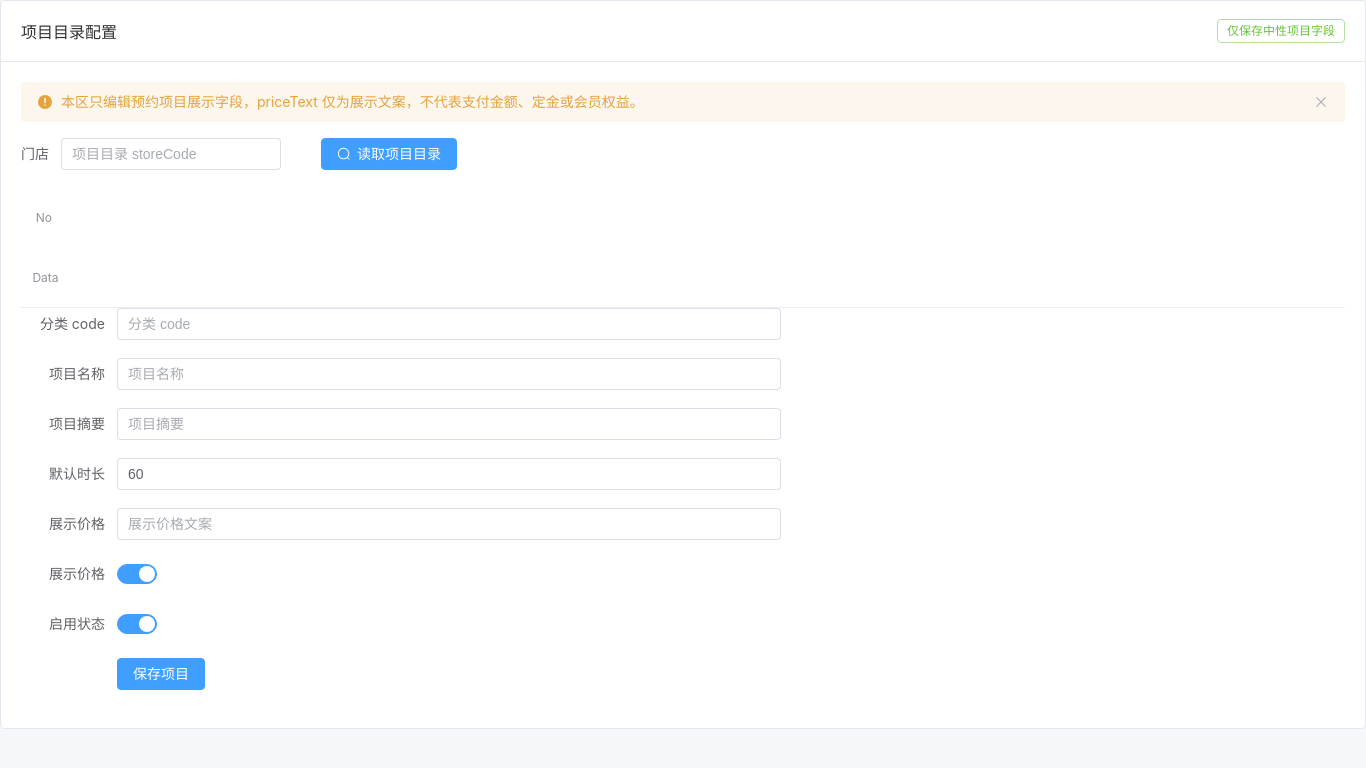
it: StoreAppointmentServiceCatalogPanel › saves selected project draft with store scope and request id
In the field with placeholder "项目目录 storeCode": (171, 154) [72,139,270,169], type "store-config-001"
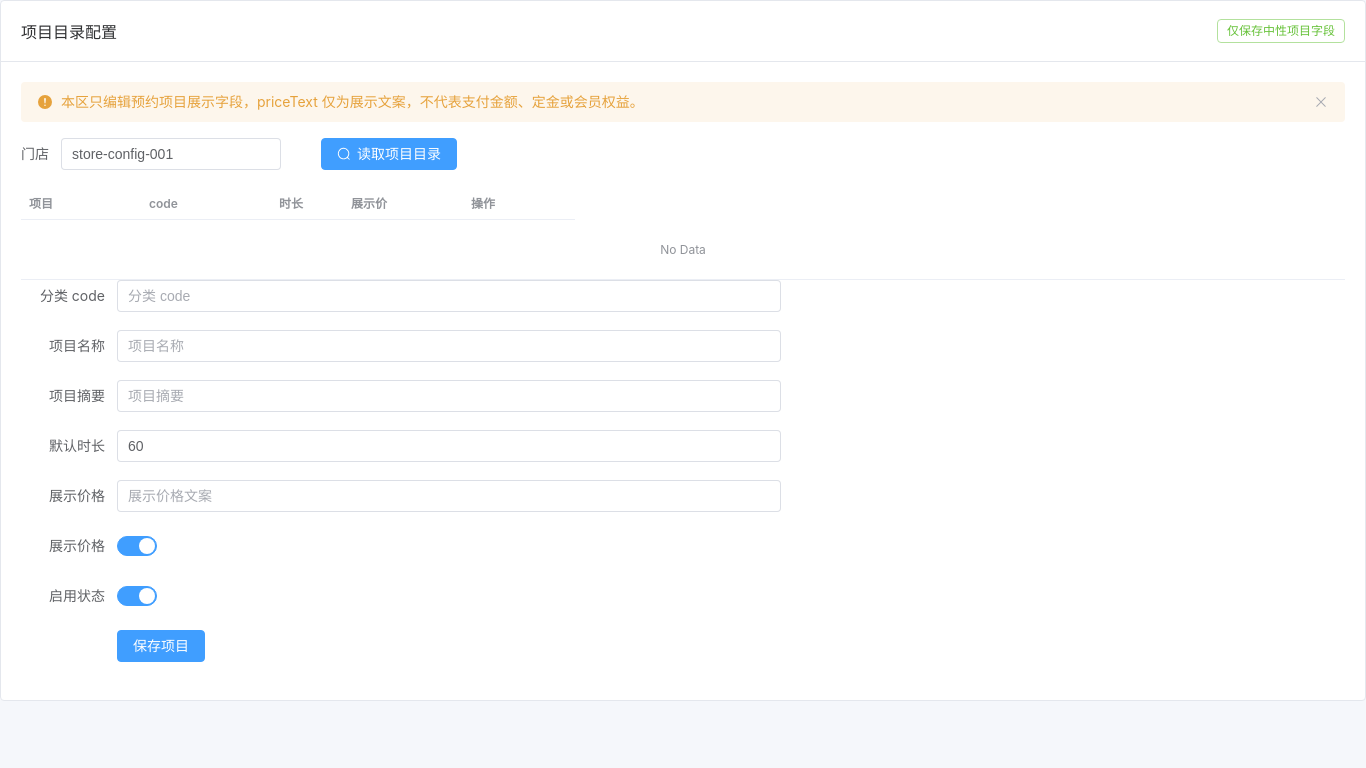
Click the button "读取项目目录": (389, 154) [321,138,457,170]
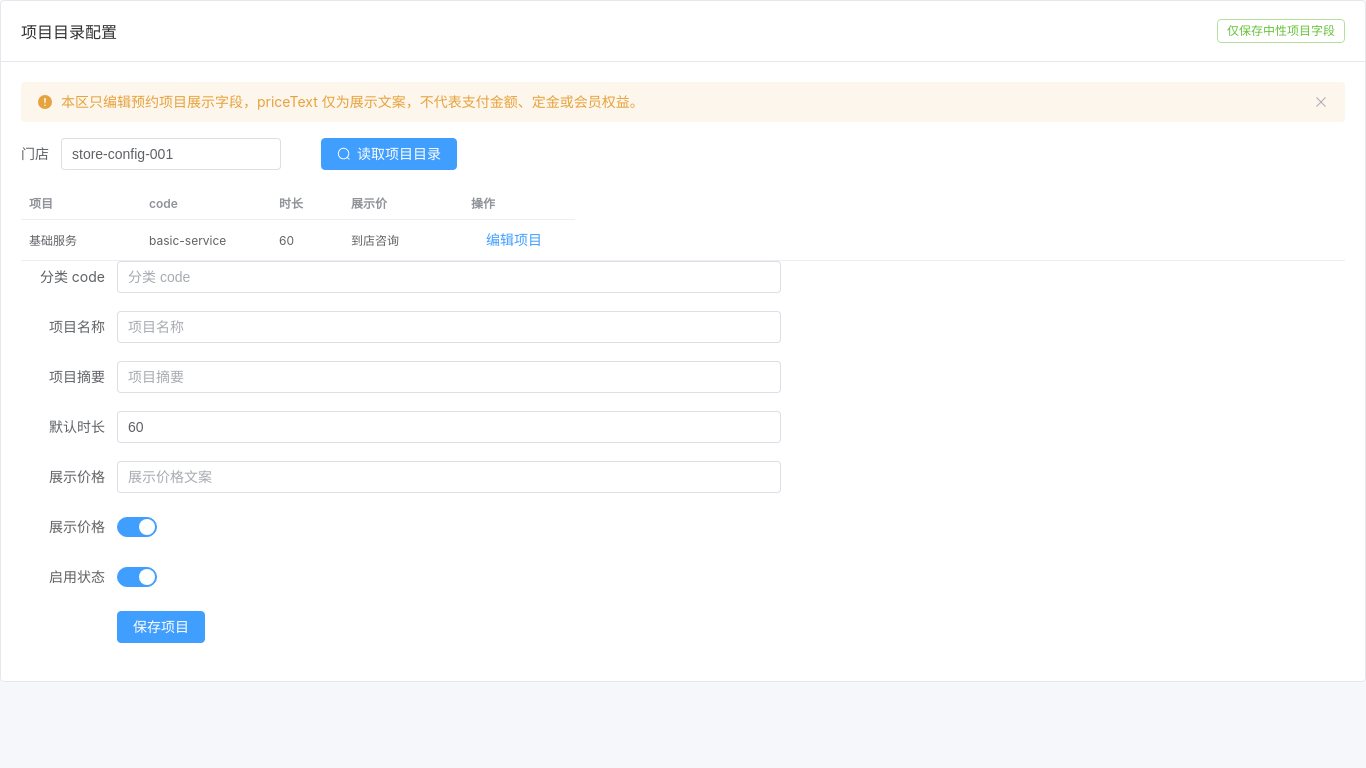
Click the button "编辑项目": (514, 240) [471,224,557,256]
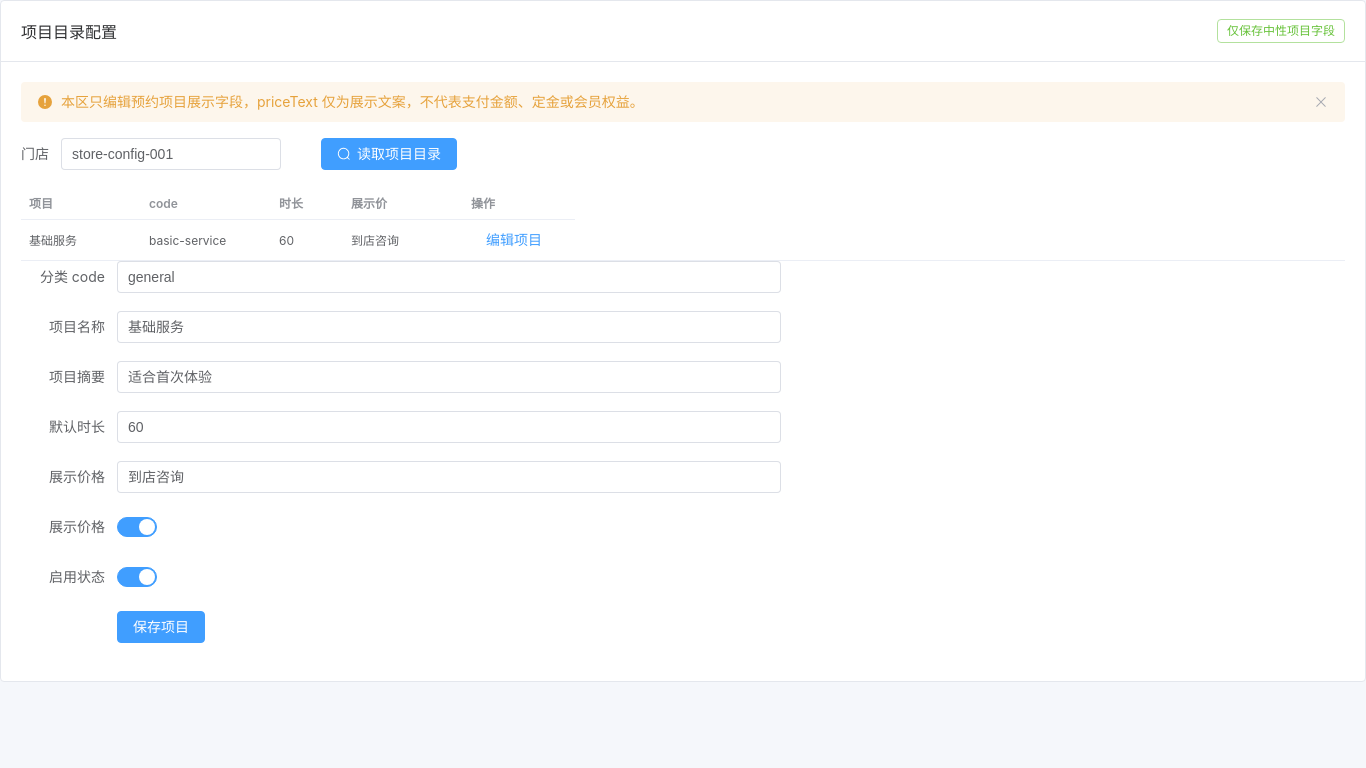
Replace the text in the field with placeholder "项目名称" with "基础护理": (449, 327) [128,312,770,342]
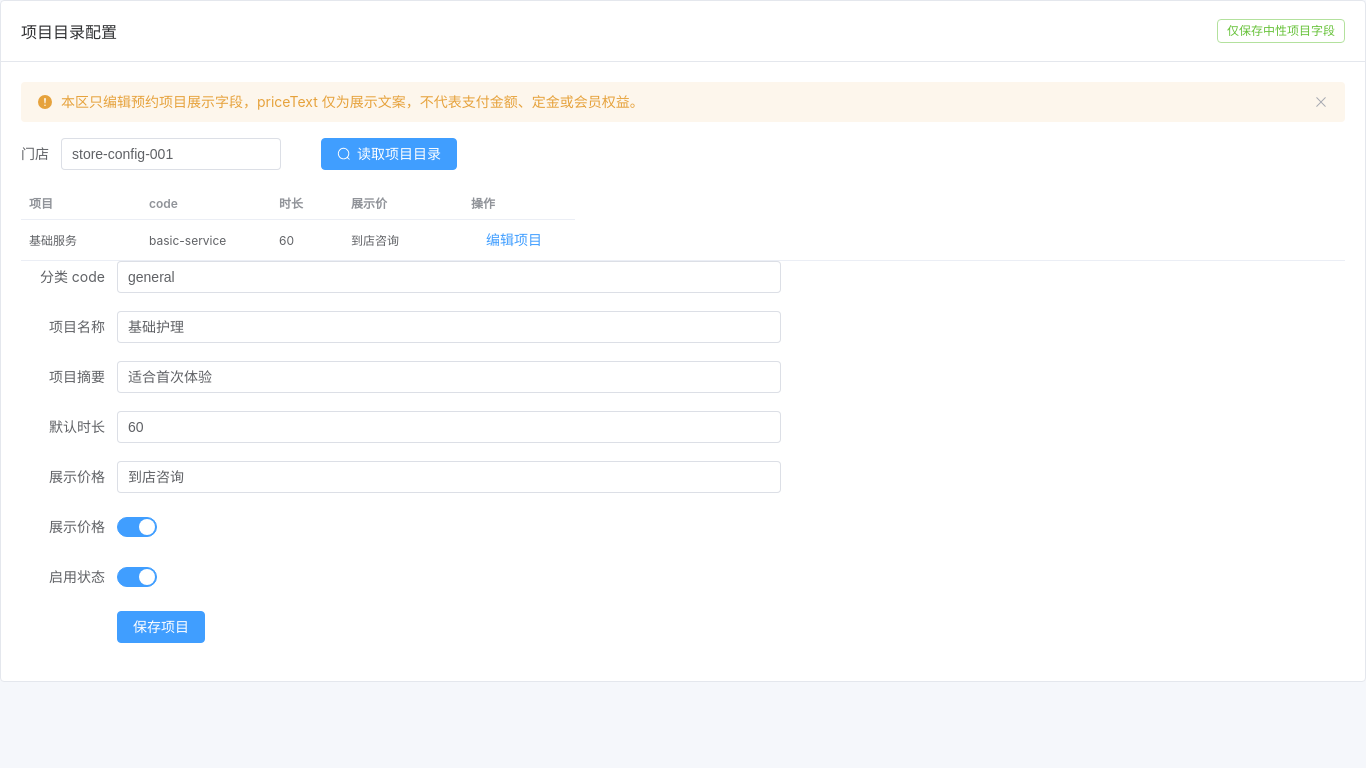
Replace the text in the field with placeholder "默认时长" with "75": (449, 427) [128,412,770,442]
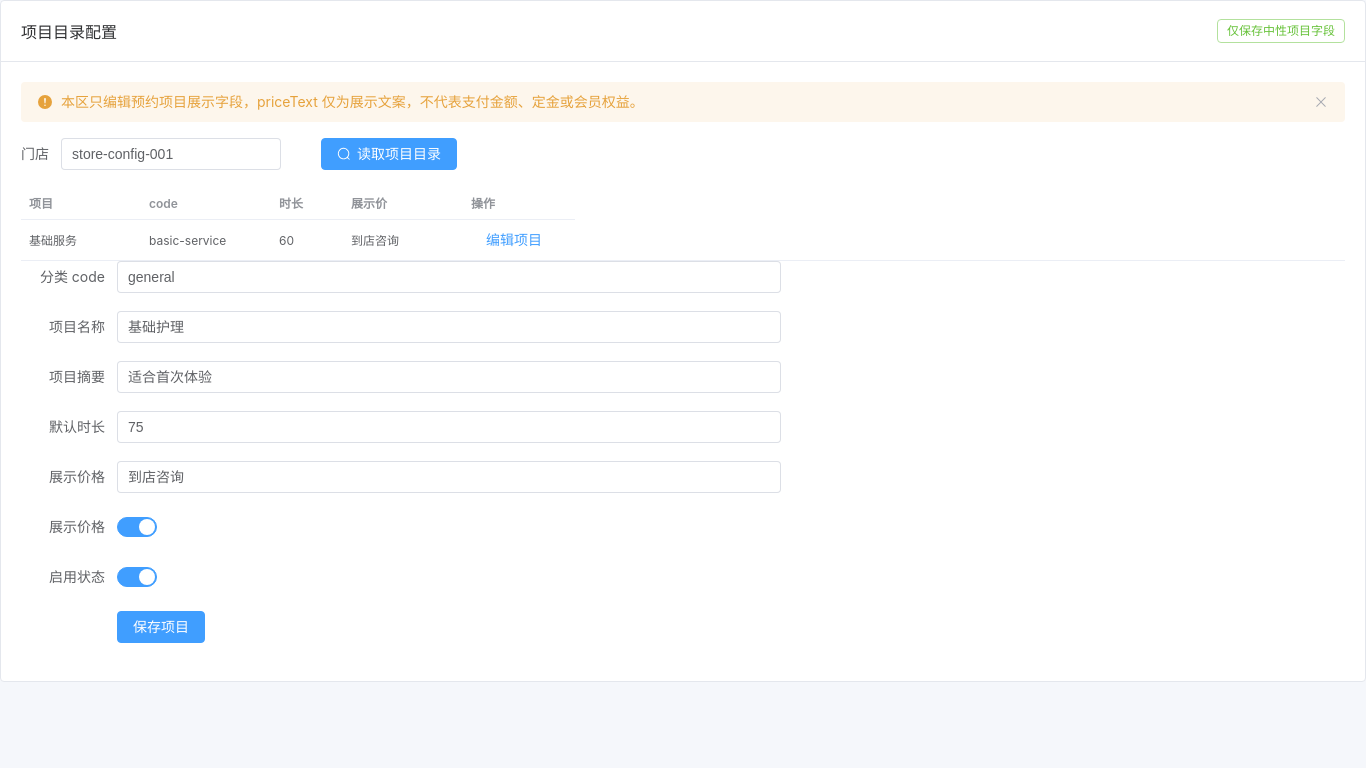
Click the button "保存项目": (161, 627) [117,611,205,643]
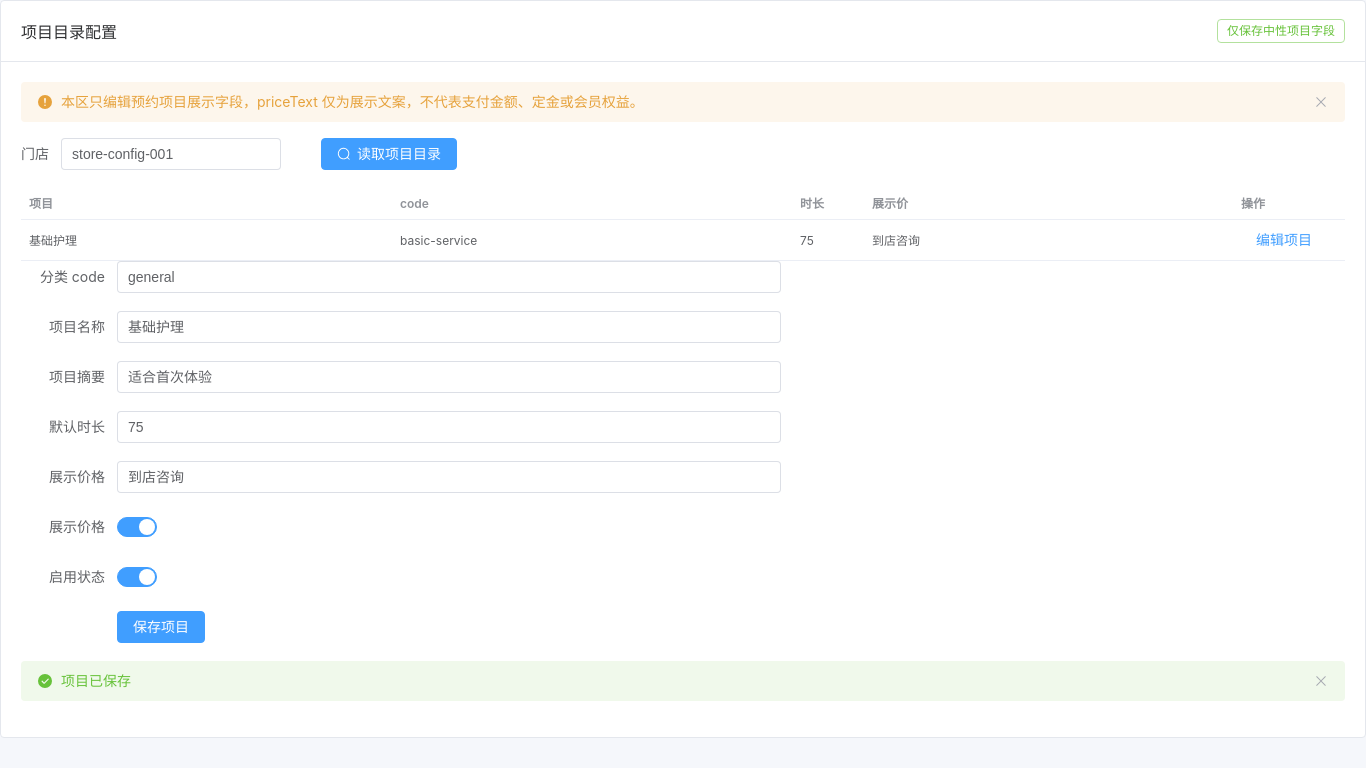
Expected: the text "项目已保存" is shown, [61,669,131,693]
Expected: the text "基础护理" is shown, [29,232,77,248]
